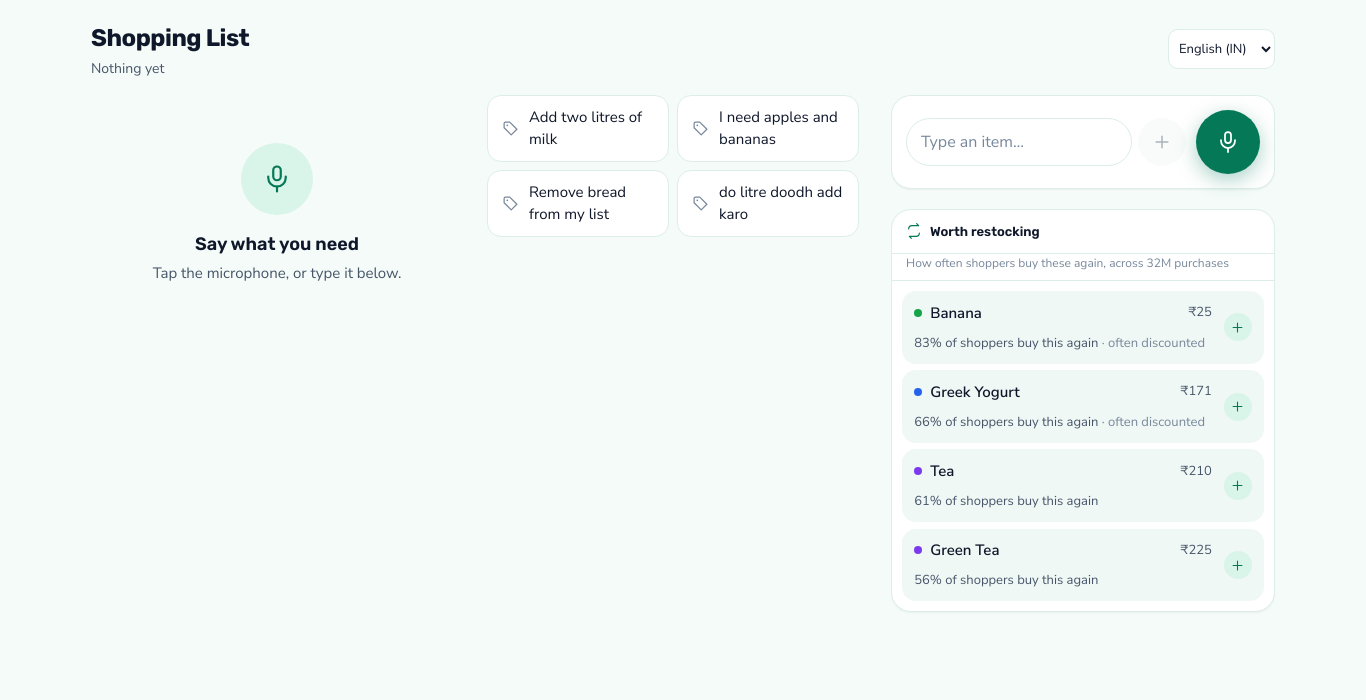
Test: the agent route › adds the proposed items only when accepted
Click the button named "Start listening".
click(1228, 142)  # box left=1196, top=110, right=1260, bottom=174
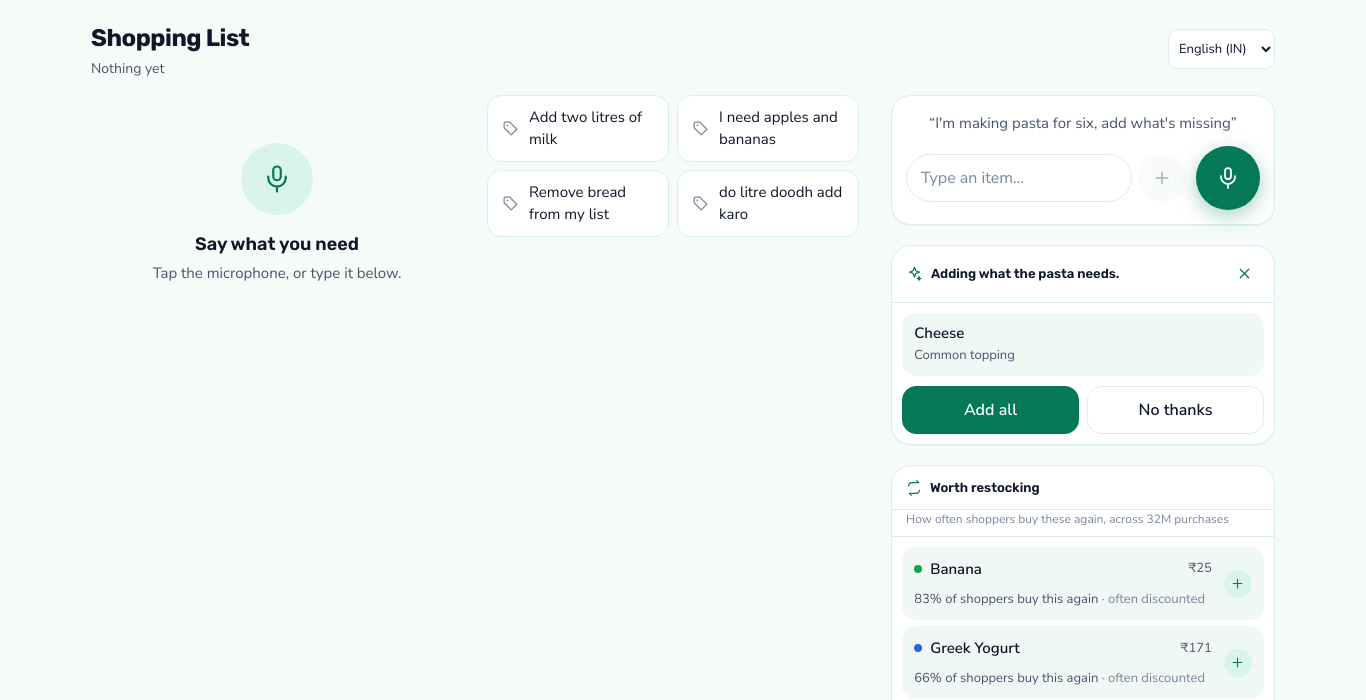
Click the button "Add all".
click(990, 410)  # box left=902, top=386, right=1079, bottom=434
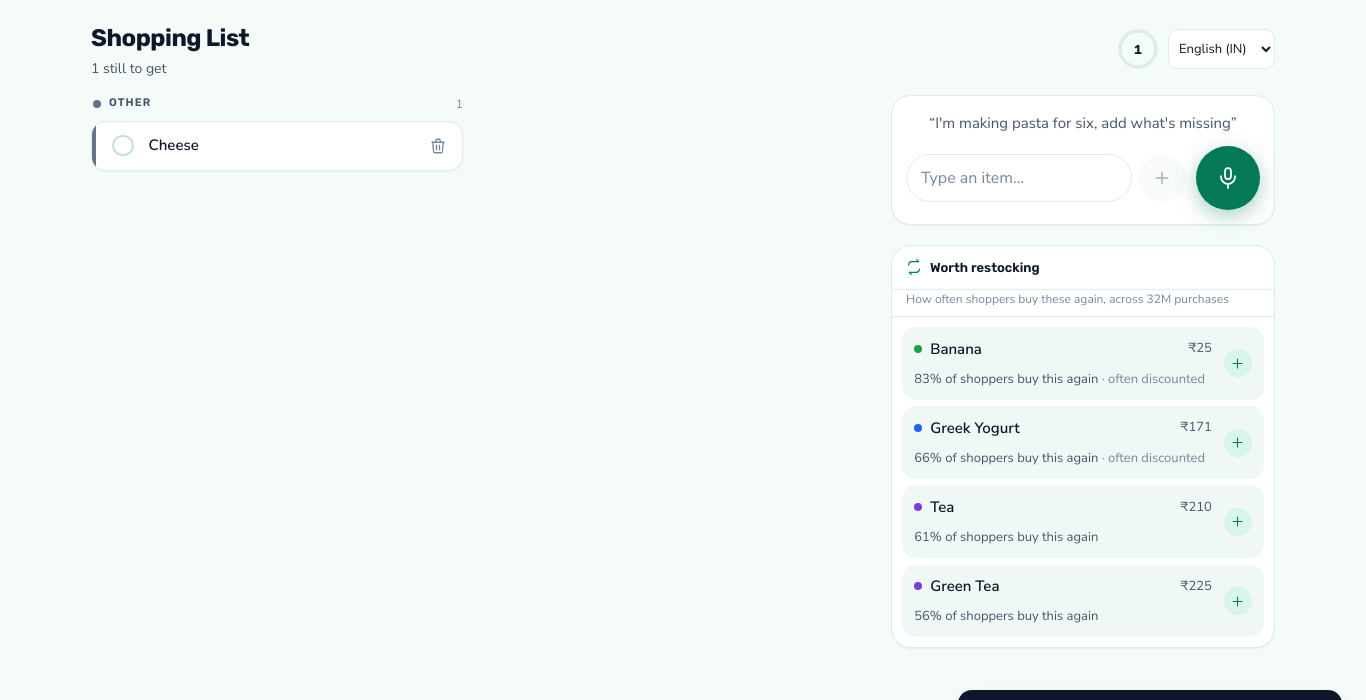
Result: the text "Cheese" is shown at left=149, top=135, right=199, bottom=155
